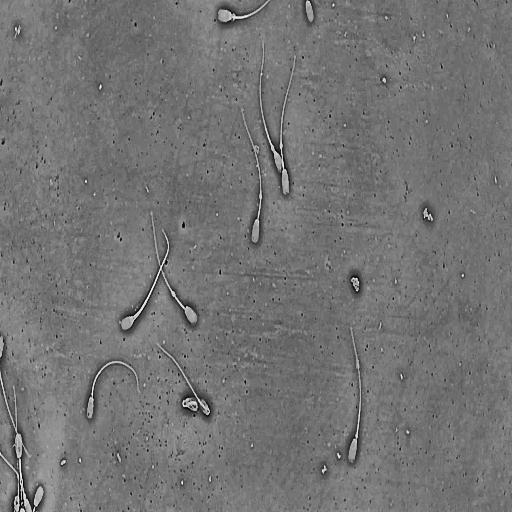coiled-tail: (185, 400, 200, 411)
dirt-particles: (421, 205, 436, 224), (350, 275, 361, 294)
distal-droplet: (279, 142, 283, 149), (171, 291, 176, 296), (259, 193, 262, 200)
folded-tail: (158, 344, 207, 411)
loose-head: (304, 0, 317, 26)
normal: (149, 207, 200, 328), (119, 226, 171, 333), (154, 339, 212, 419), (85, 358, 141, 422), (258, 39, 284, 176), (240, 104, 264, 246), (279, 52, 298, 196), (347, 325, 362, 466), (218, 0, 271, 25), (179, 395, 199, 414)
proximal-droplet: (231, 13, 236, 21), (271, 145, 275, 151), (355, 433, 358, 439)
